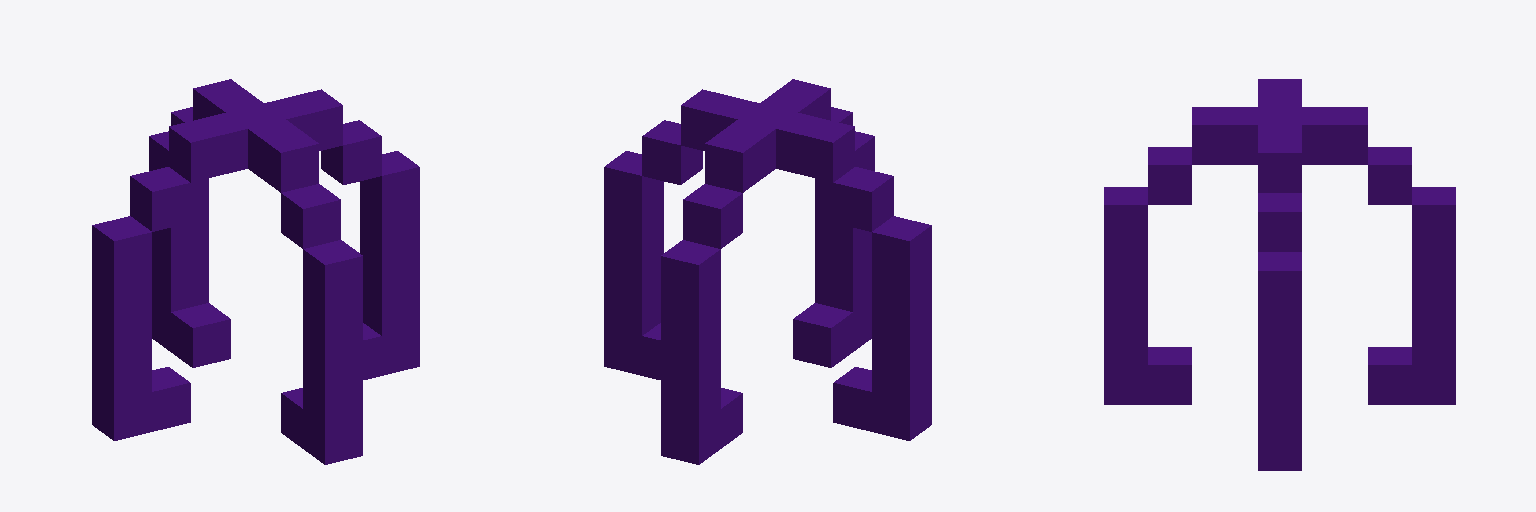
The model's file is mango.obj.
3 renders of one model, left to right at view 1: azimuth 30°, elevation 25°; view 2: azimuth 150°, elevation 25°; view 3: azimuth 270°, elevation 25°, orthographic.
Size of the model in its own units: 4 by 3.5 by 4.